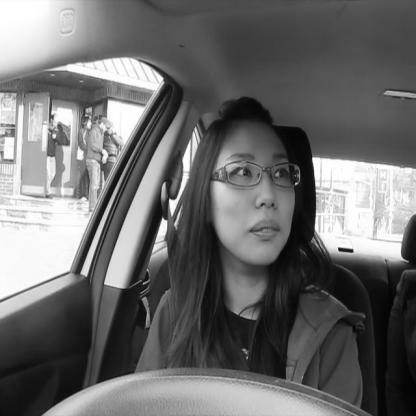seatbelt: (143, 74, 299, 416)
